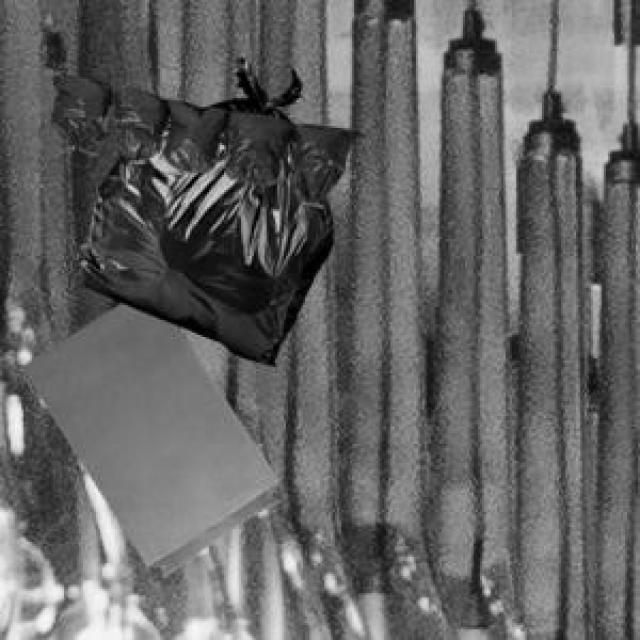miscellaneous trash: (73, 53, 329, 361), (47, 70, 360, 198)
paper: (19, 299, 275, 574)
